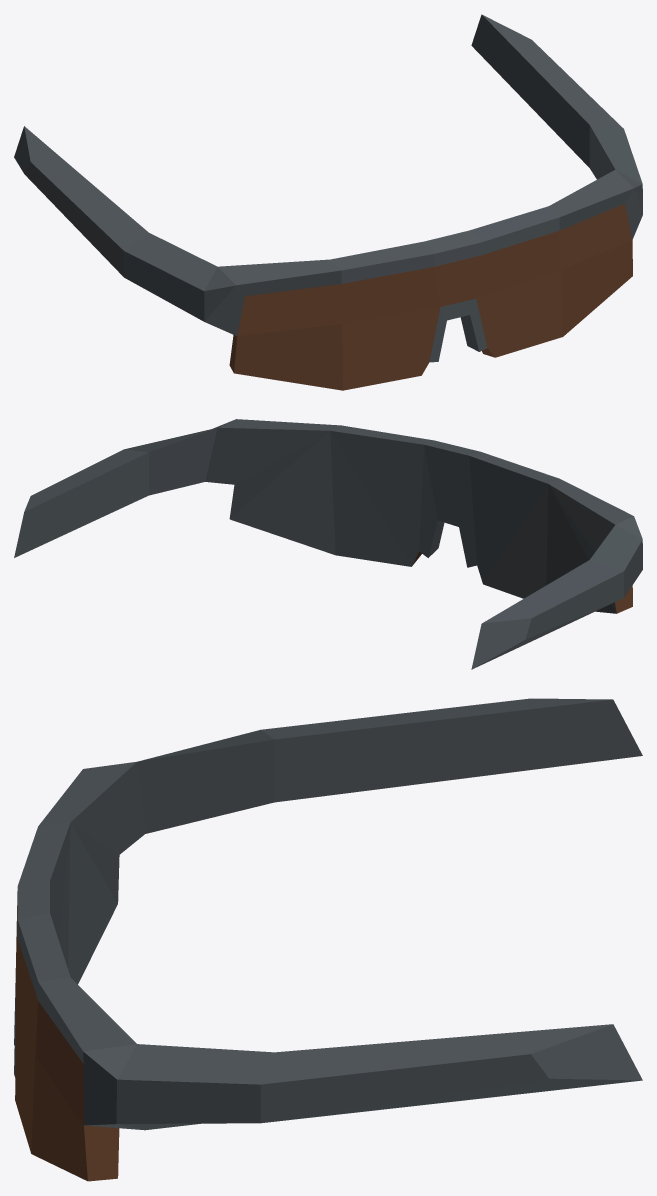
File: SM_Chr_Attach_SunGlasses_01_Female.fbx
The picture shows the model from 3 angles, top to bottom: view 1: azimuth 30°, elevation 25°; view 2: azimuth 150°, elevation 25°; view 3: azimuth 270°, elevation 25°; orthographic projection. The views are drawn at different scales.
Visible parts, largest first — view 1: SM_Chr_Attach_SunGlasses_01_Female; view 2: SM_Chr_Attach_SunGlasses_01_Female; view 3: SM_Chr_Attach_SunGlasses_01_Female.
Part boxes in pixels (x1=…): SM_Chr_Attach_SunGlasses_01_Female: x1=14, y1=14, x2=642, y2=390; SM_Chr_Attach_SunGlasses_01_Female: x1=14, y1=419, x2=642, y2=669; SM_Chr_Attach_SunGlasses_01_Female: x1=14, y1=698, x2=642, y2=1181.
Bounding box in the file's own units: 23.29 × 6.69 × 17.41.
